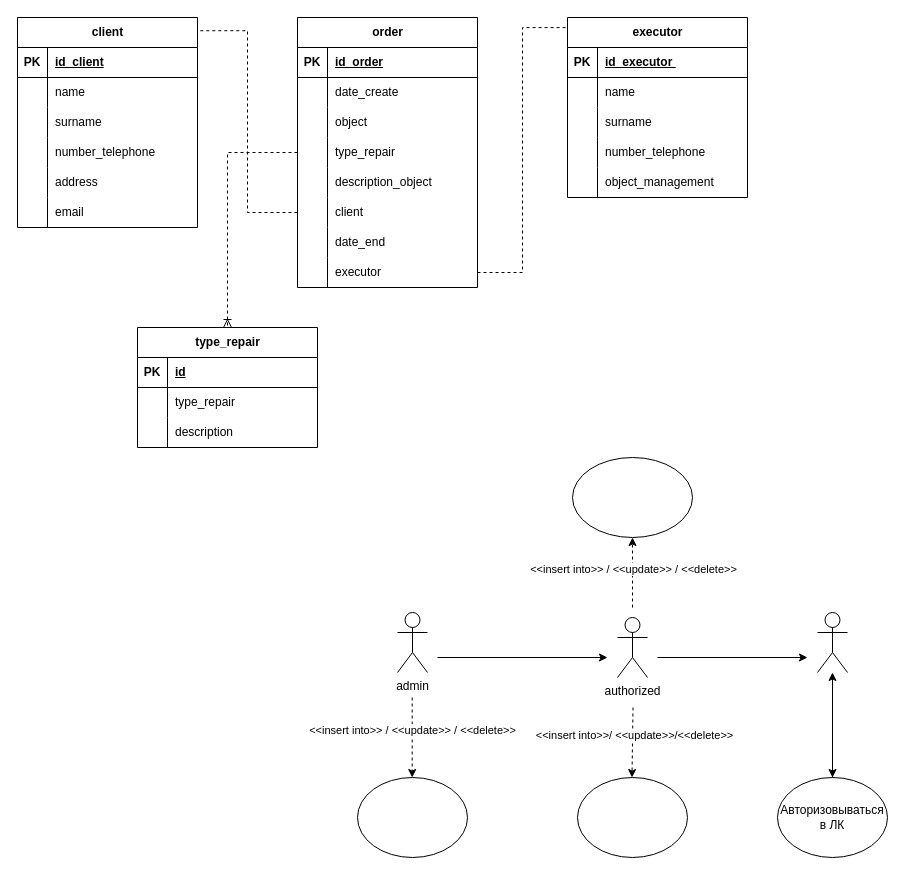
This 905x875 diagram has some shape labels left out. The centre of each missing label's shape, as x and y in pixels:
user: the point at 832,642
Назначать исполнителей: the point at 412,817
Редактировать данные клиента: the point at 632,817
Создавать заказы / редактировать: the point at 632,497
